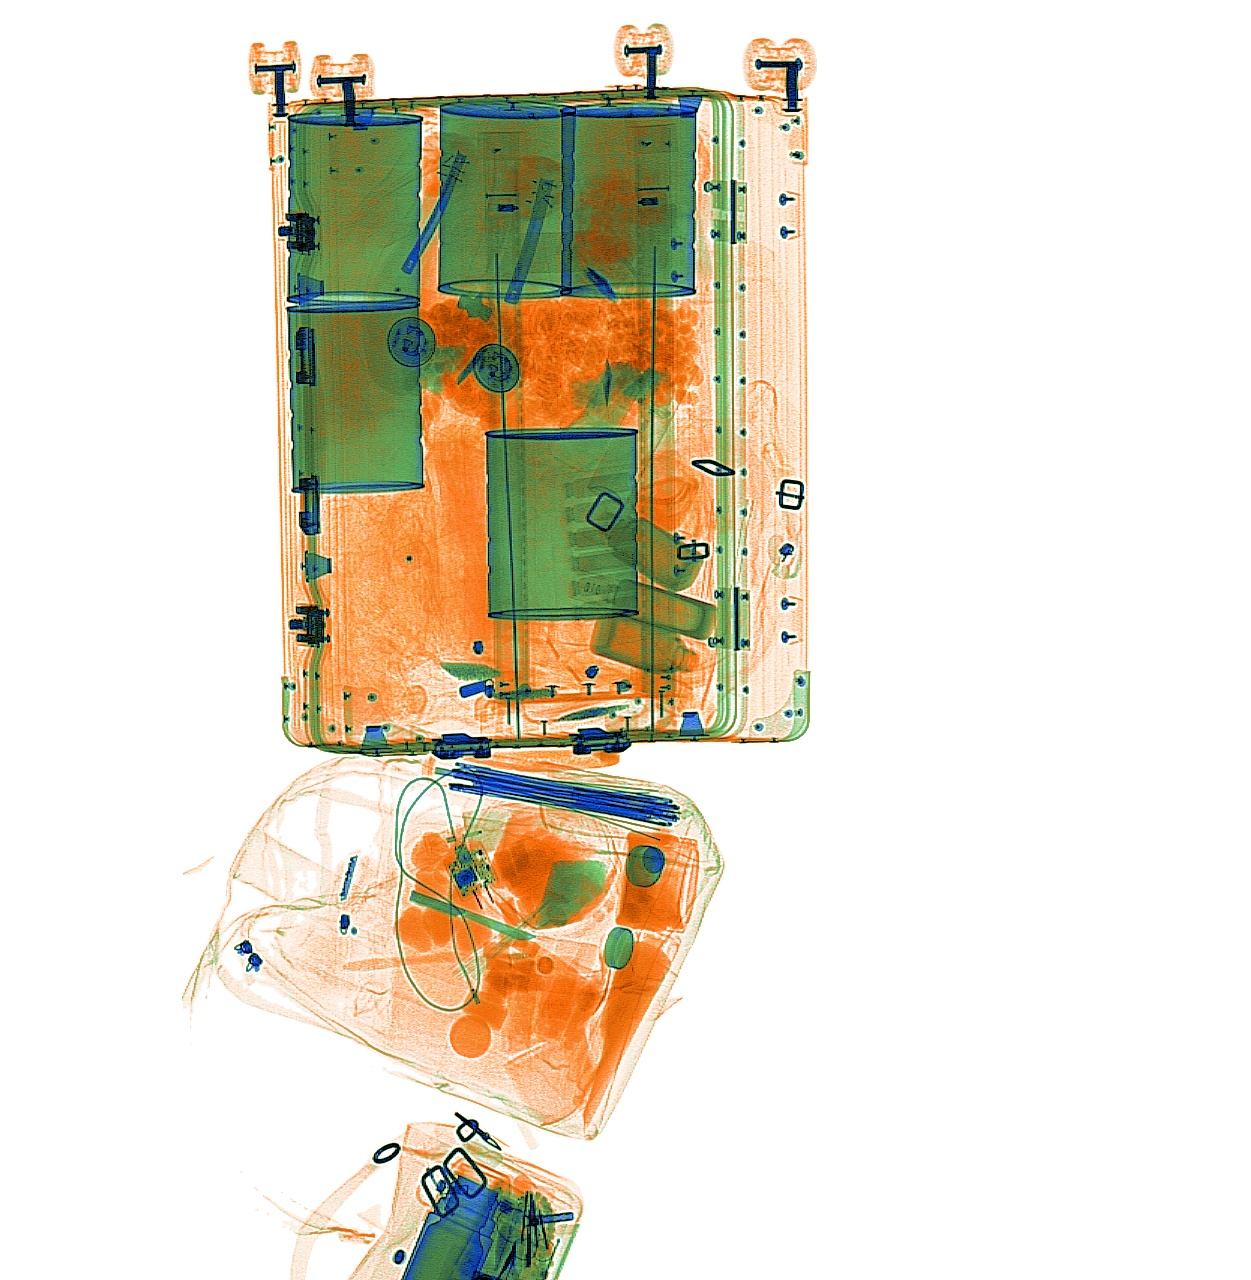glassbottle: (558, 470, 655, 633), (596, 563, 711, 675), (595, 496, 709, 591), (603, 925, 636, 968)
metalcup: (398, 1173, 508, 1274)
umbrella: (427, 754, 686, 841)
